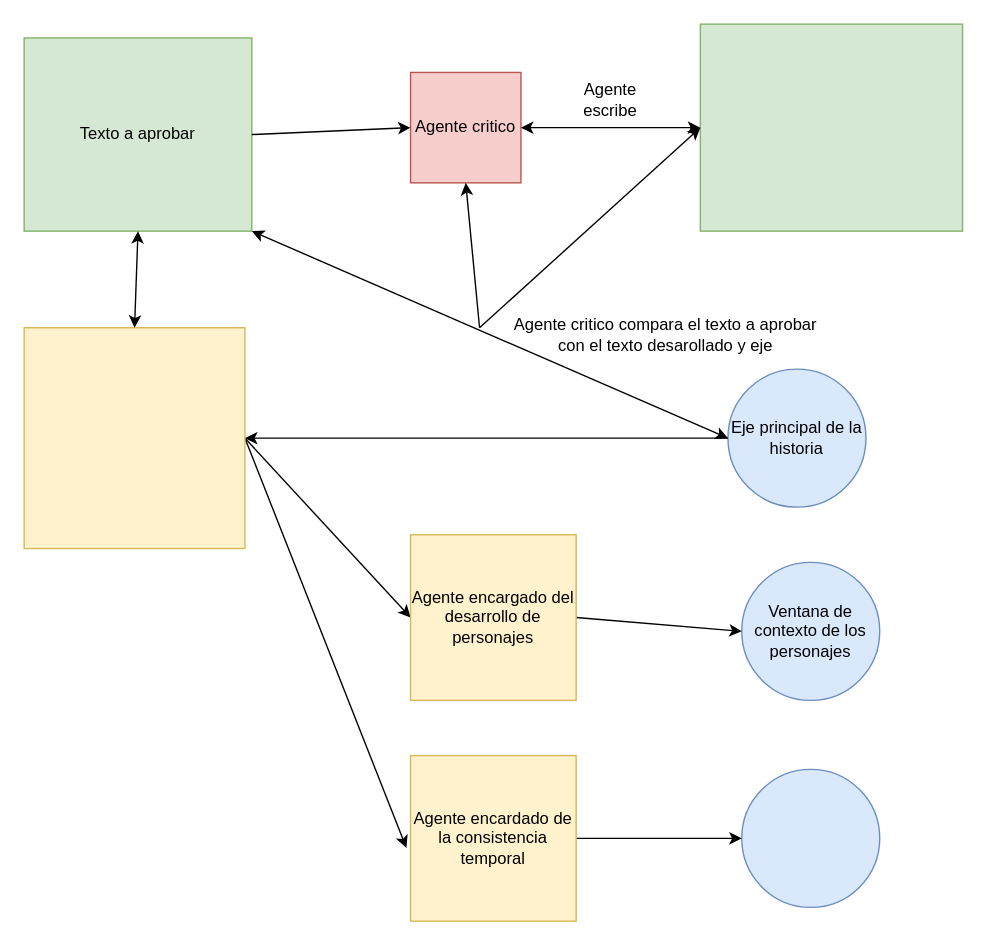
Image size: 987x945. Some labels were removed from this diagram. The shapes that lost their labels are listed below. From the top down, each one's centre as x and y in pixels, then its label:
point (831, 127): Texto desarollado
point (134, 437): Agente redactor - consume el eje principal de la historia - consume el
point (810, 837): Ventana de contexto de la historia
